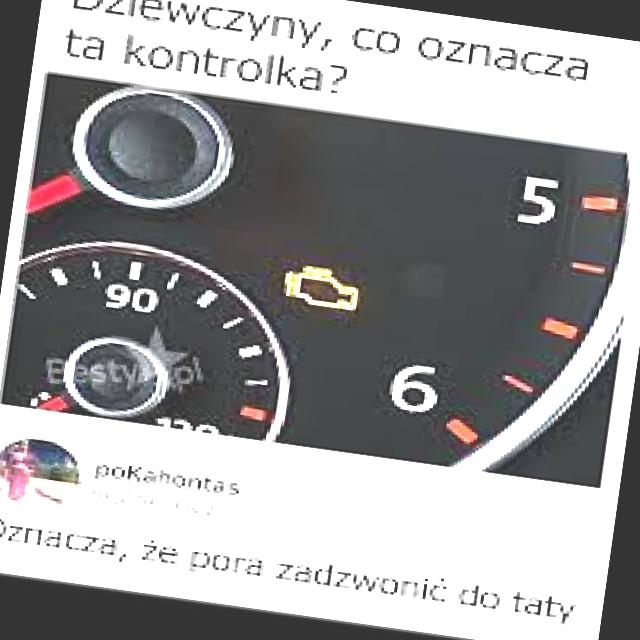kontrolka: (274, 256, 368, 320)
